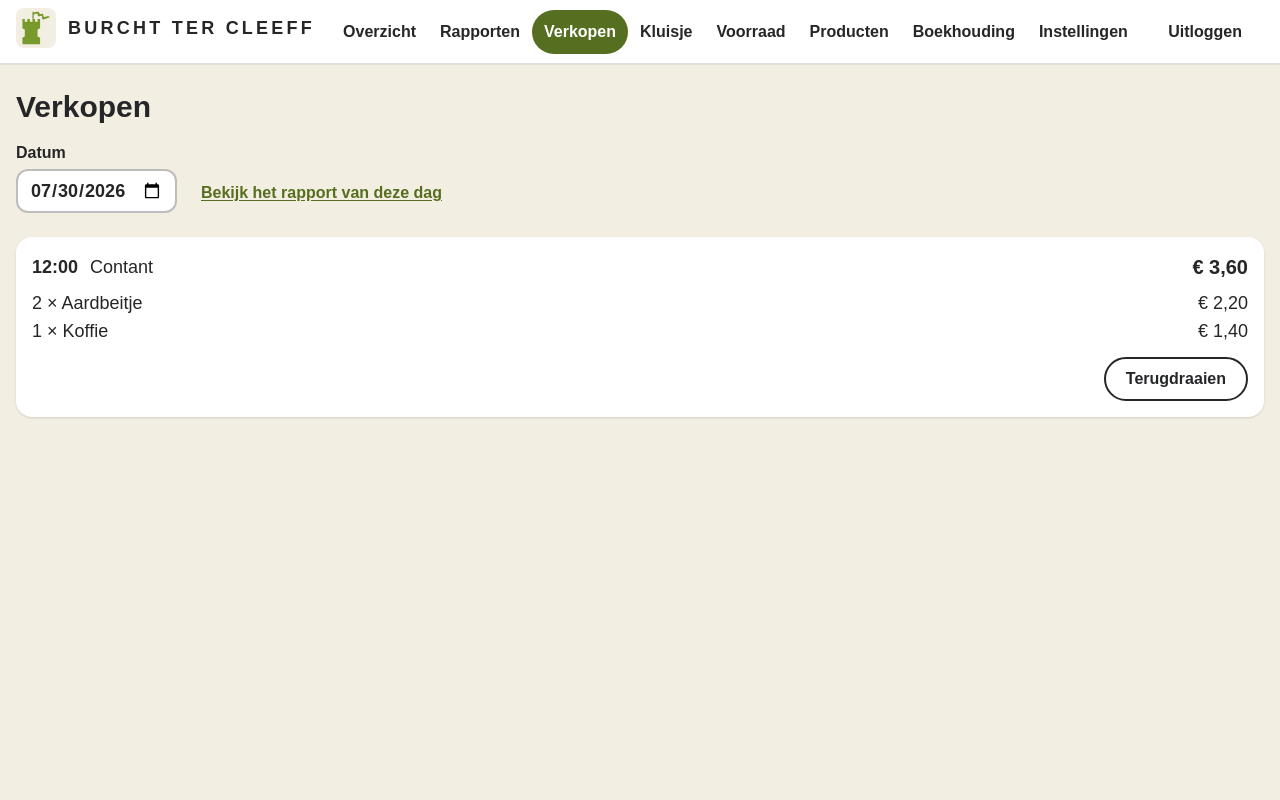
Scenario: explains why a closed sale cannot be reversed
Click the button "Terugdraaien" at [1176, 379], box [1104,357,1248,401]
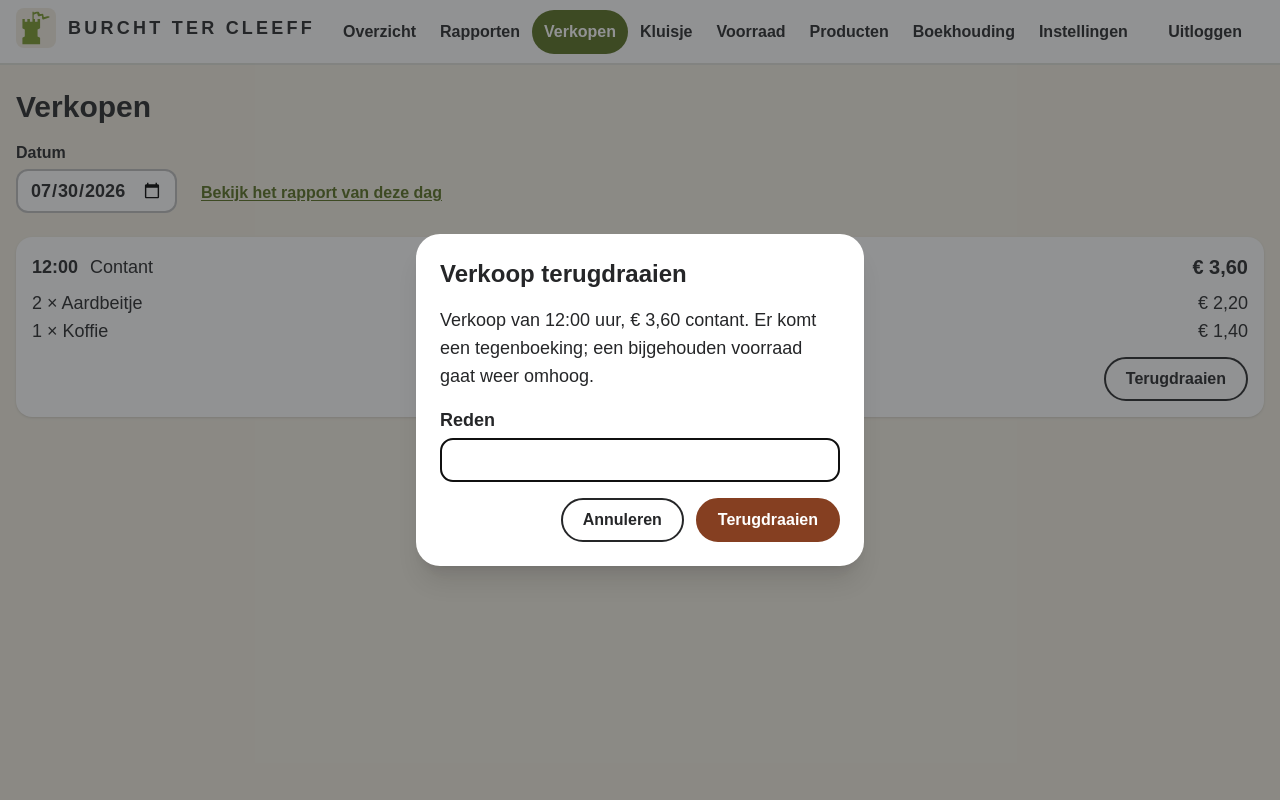
Type "te laat" into the field labelled "Reden" at [640, 460], box [440,438,840,482]
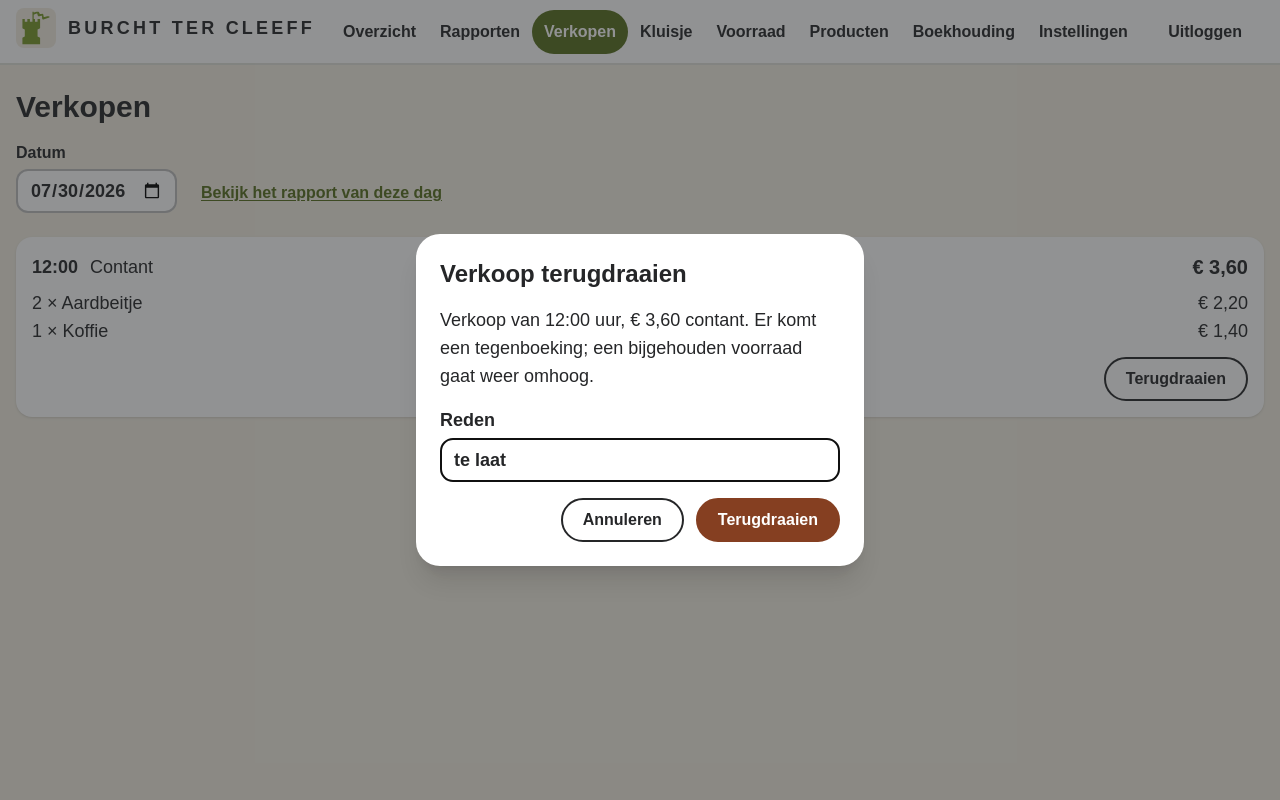
Click the button "Terugdraaien" at [768, 520], box [696,498,840,542]
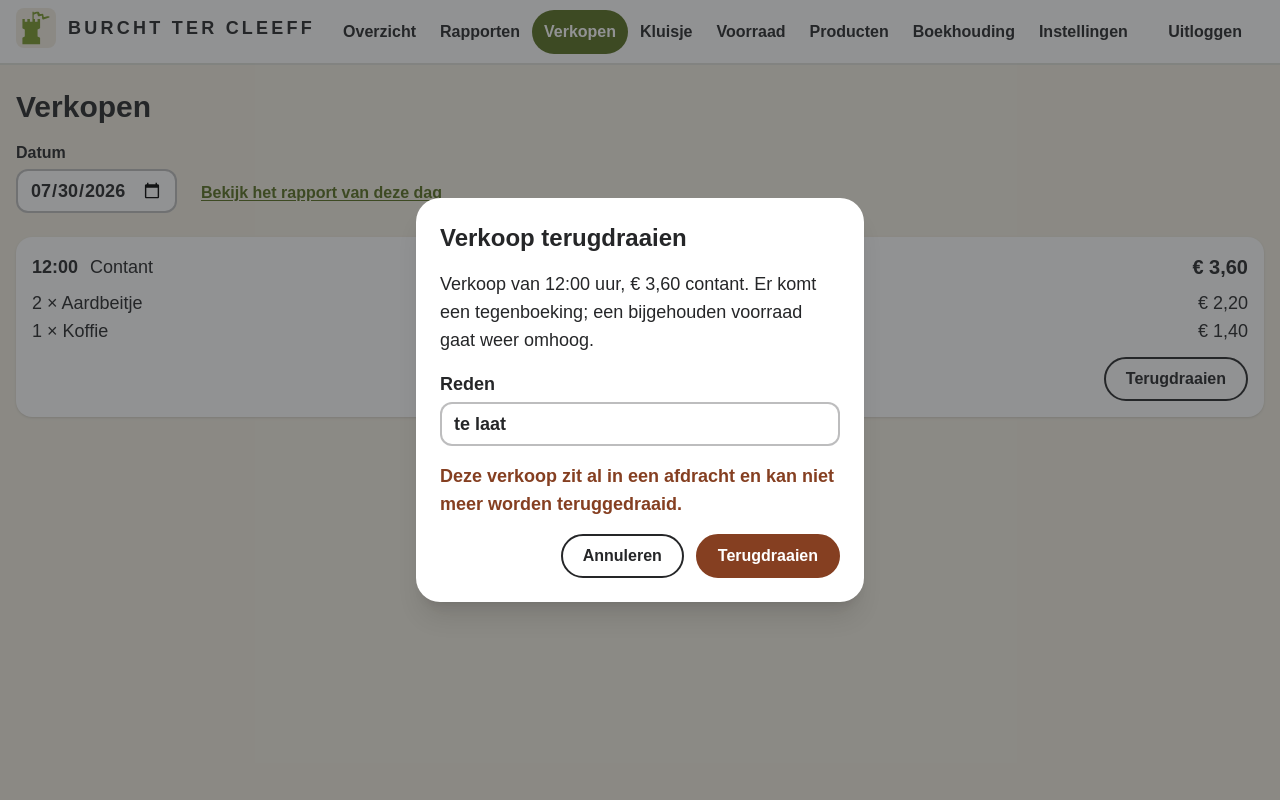
expect the text "Deze verkoop zit al in een afdracht en kan niet meer worden teruggedraaid." is shown: met, box [440,462,840,518]
